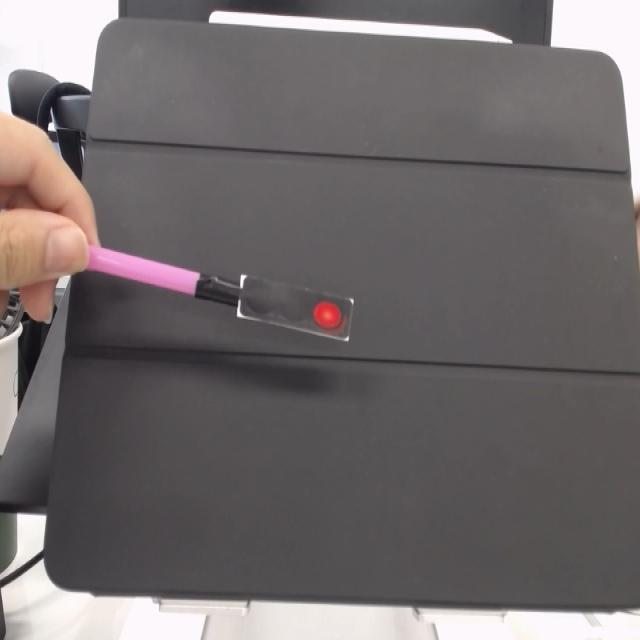traffic light: (194, 275, 361, 344)
